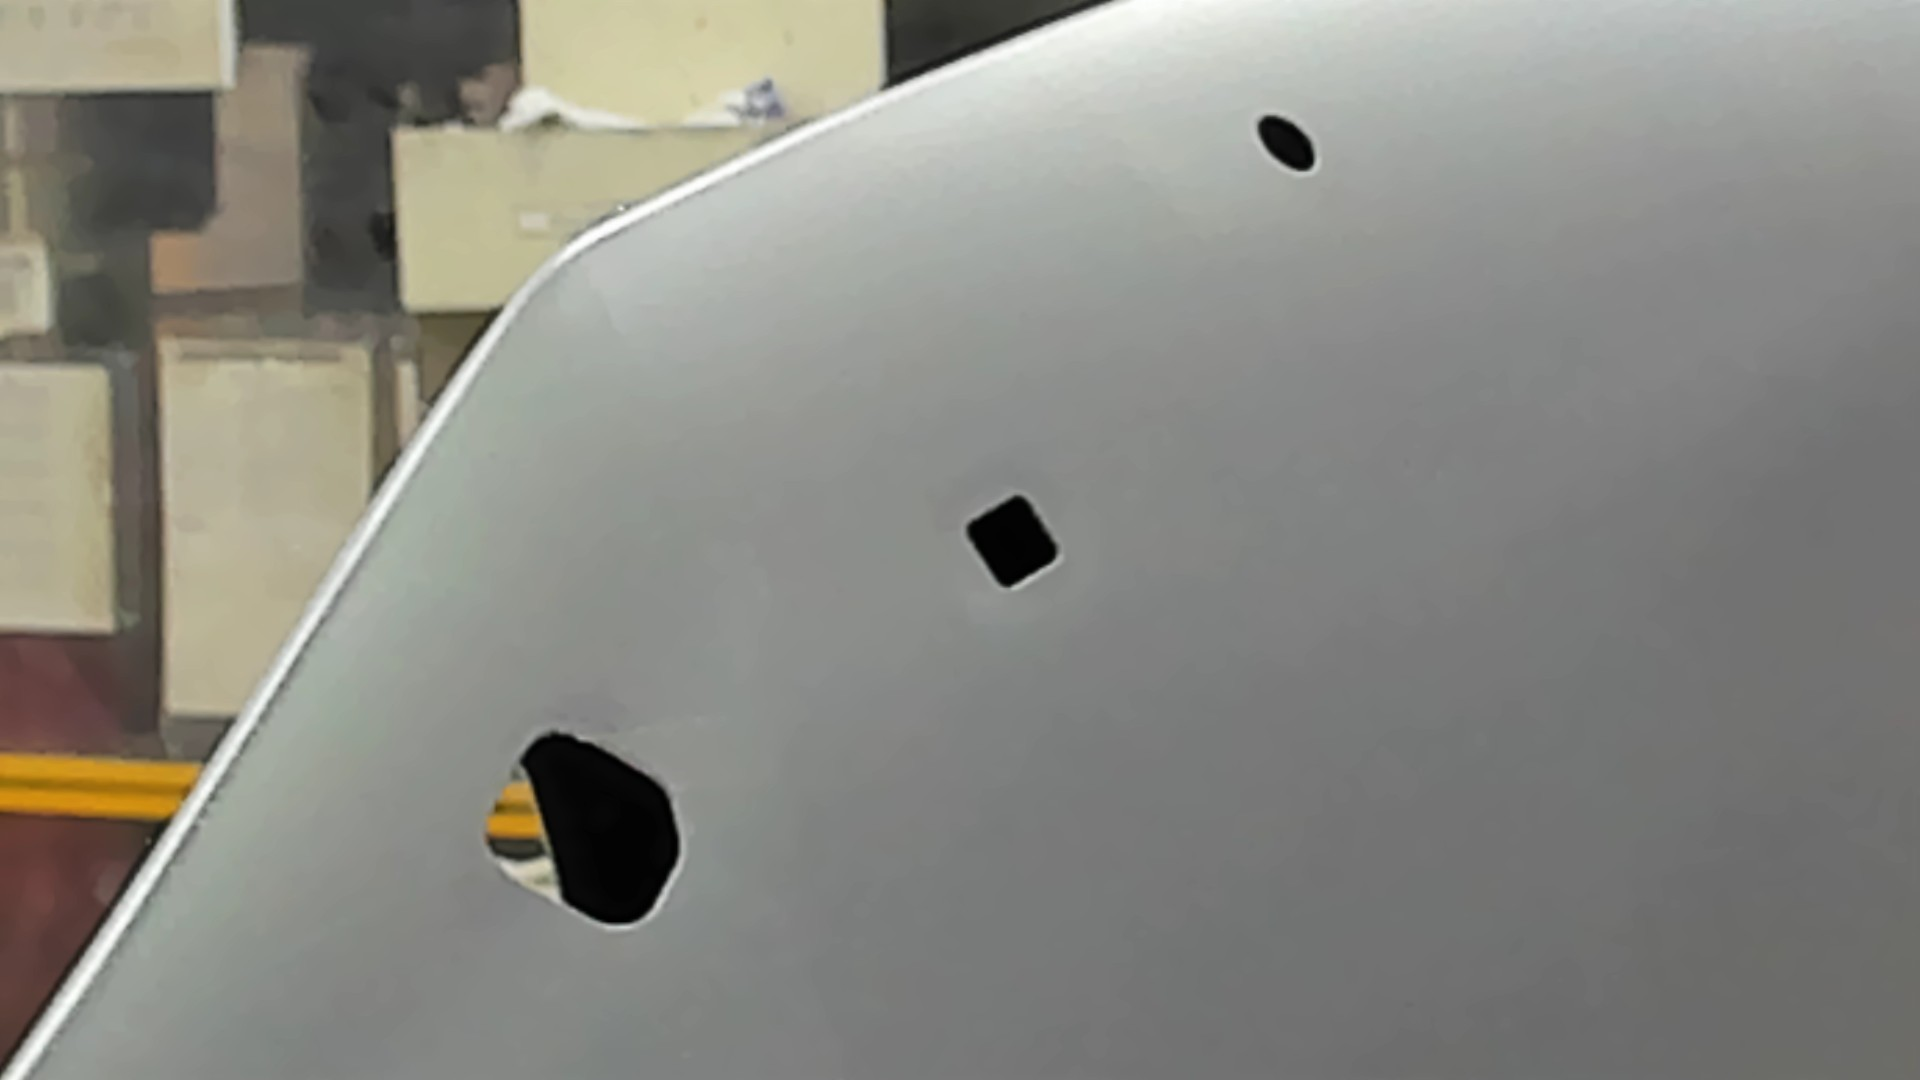chico: (1250, 109, 1323, 178)
grande: (473, 727, 691, 938)
mediano: (957, 487, 1065, 595)
